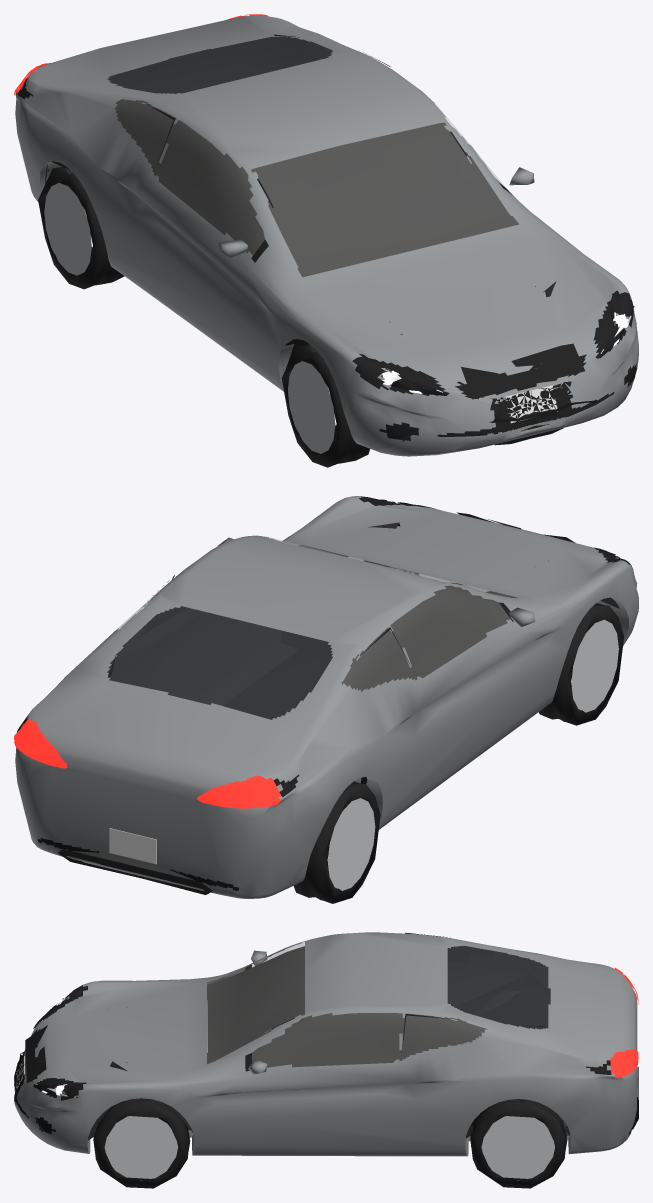
File: coupe-lod2.glb
3 renders of one model, top to bottom at view 1: azimuth 30°, elevation 25°; view 2: azimuth 150°, elevation 25°; view 3: azimuth 270°, elevation 25°, orthographic. The views are drawn at different scales.
Visible parts, largest first — view 1: Body, Body_Lining, Body_Trim, Wheel_RR_Face, Wheel_FR_Face, Wheel_FR_Tyre, Wheel_RR_Tyre, PlateFront; view 2: Body, Body_Lining, Body_Trim, Wheel_RR_Tyre, Wheel_RR_Face, Wheel_FR_Face, Wheel_FR_Tyre, PlateRear; view 3: Body, Body_Lining, Wheel_RL_Face, Wheel_FL_Face, Wheel_RL_Tyre, Wheel_FL_Tyre, Body_Trim.
Boxes of the visible parts, x1,y1,x2,y2 form: Body: (15,15,638,456); Body_Lining: (115,99,519,277); Body_Trim: (14,14,634,445); Wheel_RR_Face: (44,183,91,275); Wheel_FR_Face: (288,361,335,453); Wheel_FR_Tyre: (281,344,369,467); Wheel_RR_Tyre: (38,167,124,289); PlateFront: (505,385,557,423); Body: (15,496,638,898); Body_Lining: (304,546,518,691); Body_Trim: (14,499,623,894); Wheel_RR_Tyre: (293,782,380,903); Wheel_RR_Face: (327,798,375,890); Wheel_FR_Face: (571,619,618,712); Wheel_FR_Tyre: (539,603,623,725); PlateRear: (109,828,156,864); Body: (14,932,637,1156); Body_Lining: (207,946,486,1067); Wheel_RL_Face: (481,1116,555,1180); Wheel_FL_Face: (104,1116,178,1180); Wheel_RL_Tyre: (470,1099,567,1188); Wheel_FL_Tyre: (93,1099,190,1188); Body_Trim: (14,932,638,1131).
Size of the model in its own units: 2.04 by 1.33 by 4.51.
